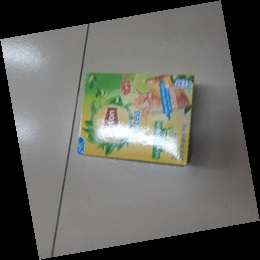LipTon: (73, 73, 198, 168)
